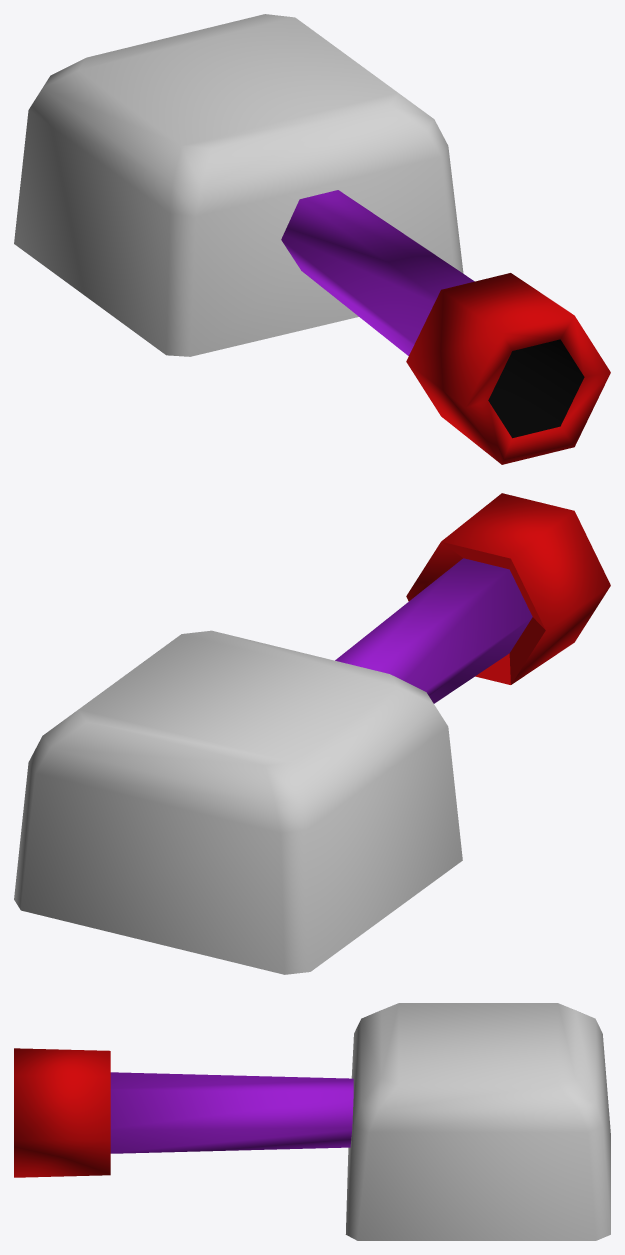
Rendered from Cannon.obj.
3 views of the same model, one above another, from view 1: azimuth 30°, elevation 25°; view 2: azimuth 150°, elevation 25°; view 3: azimuth 270°, elevation 25° (orthographic). The views are drawn at different scales.
Visible parts, largest first — view 1: polygon1.002_polygon1.003; view 2: polygon1.002_polygon1.003; view 3: polygon1.002_polygon1.003.
Boxes of the visible parts, bbox=[...] form: polygon1.002_polygon1.003: bbox=[14, 14, 610, 464]; polygon1.002_polygon1.003: bbox=[14, 493, 610, 974]; polygon1.002_polygon1.003: bbox=[14, 1003, 610, 1240].
Size of the model in its own units: 0.1125 by 0.0659 by 0.2531.
